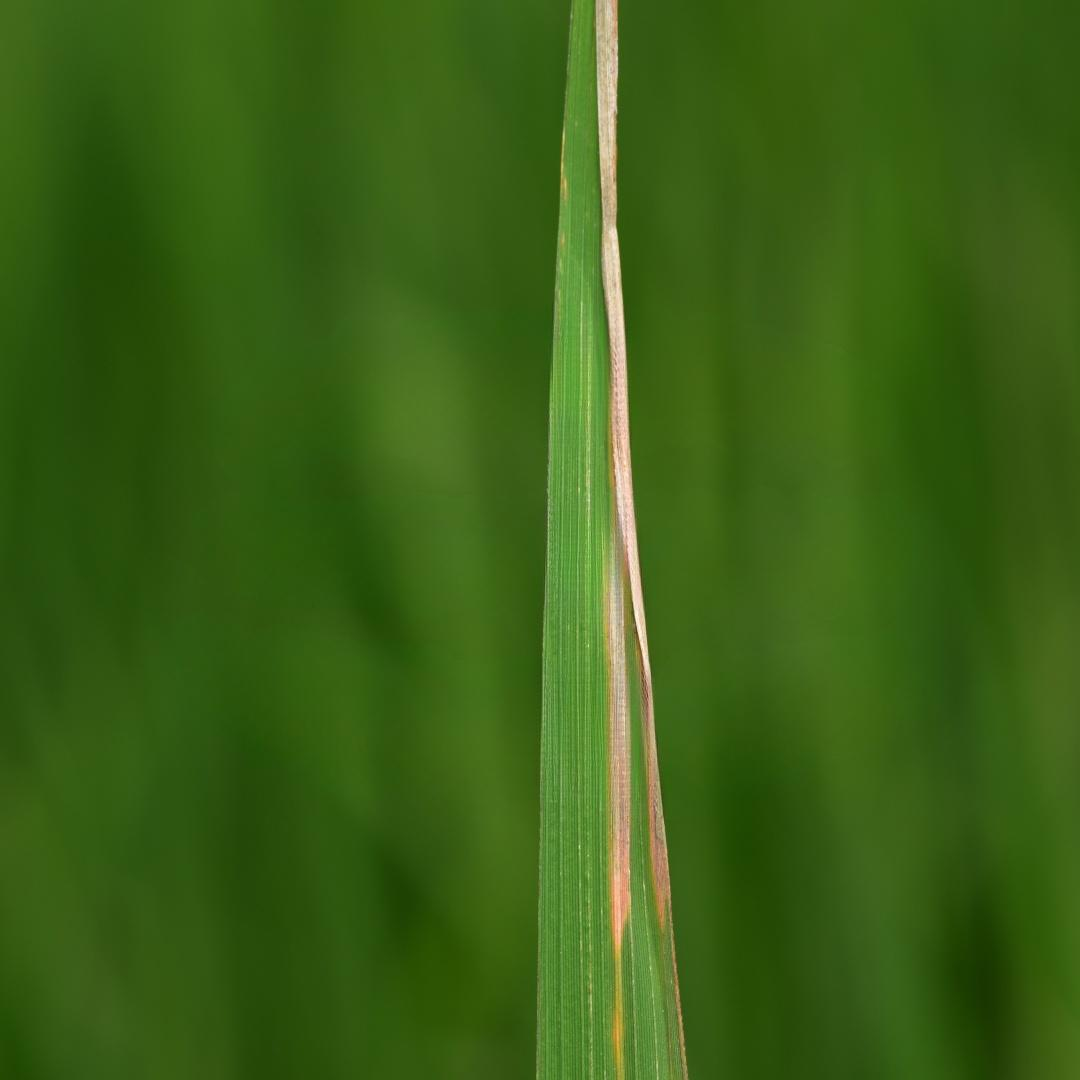BLB: (595, 0, 670, 953)
LEAF: (537, 0, 688, 1079)
